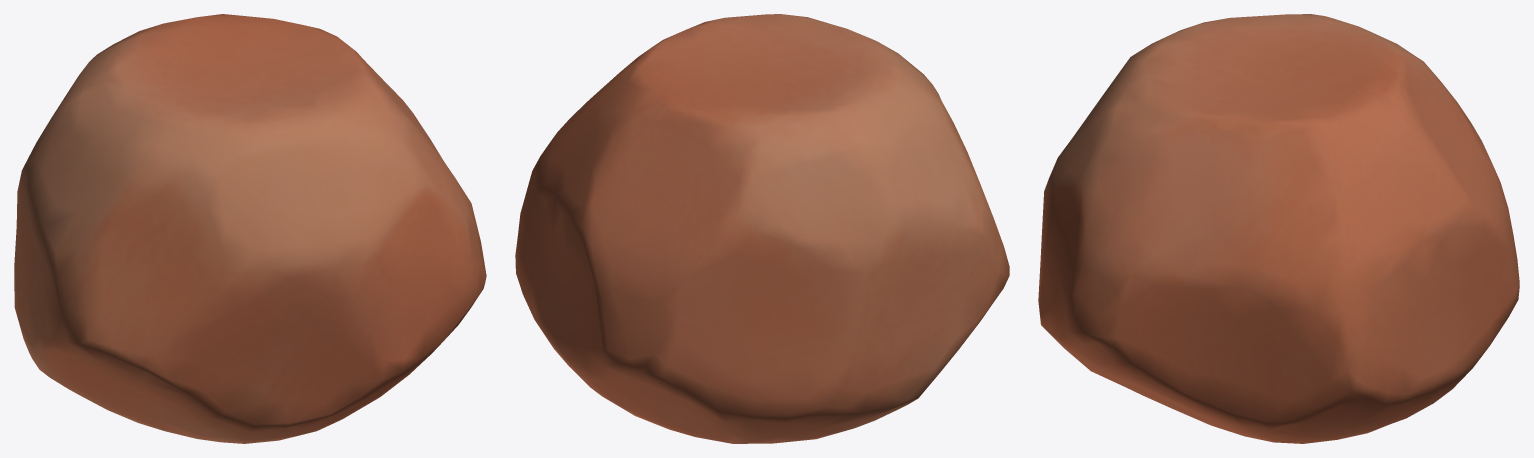
Rendered from kamen-granenyy.glb.
The picture shows the model from 3 angles, left to right: view 1: azimuth 30°, elevation 25°; view 2: azimuth 150°, elevation 25°; view 3: azimuth 270°, elevation 25°; orthographic projection.
Parts seen in each view (by area): view 1: geometry_0; view 2: geometry_0; view 3: geometry_0.
Part boxes in pixels (<box>): geometry_0: <box>14,14,486,443</box>; geometry_0: <box>515,14,1009,443</box>; geometry_0: <box>1038,14,1519,443</box>.
Bounding box in the file's own units: 0.9979 × 0.7439 × 0.9896.
1 material, 1 textured.
